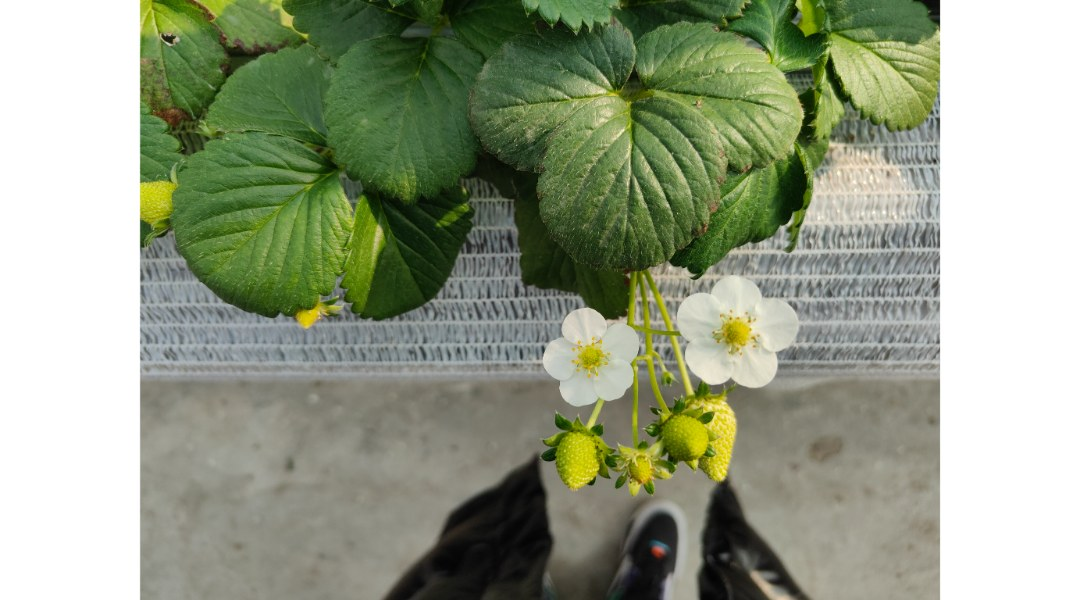berry: (548, 407, 608, 500), (679, 386, 734, 484), (610, 434, 663, 503), (656, 404, 703, 476)
flower: (673, 270, 799, 393), (535, 302, 645, 410)
strain: (648, 281, 698, 392), (629, 367, 639, 448), (627, 272, 635, 326)
